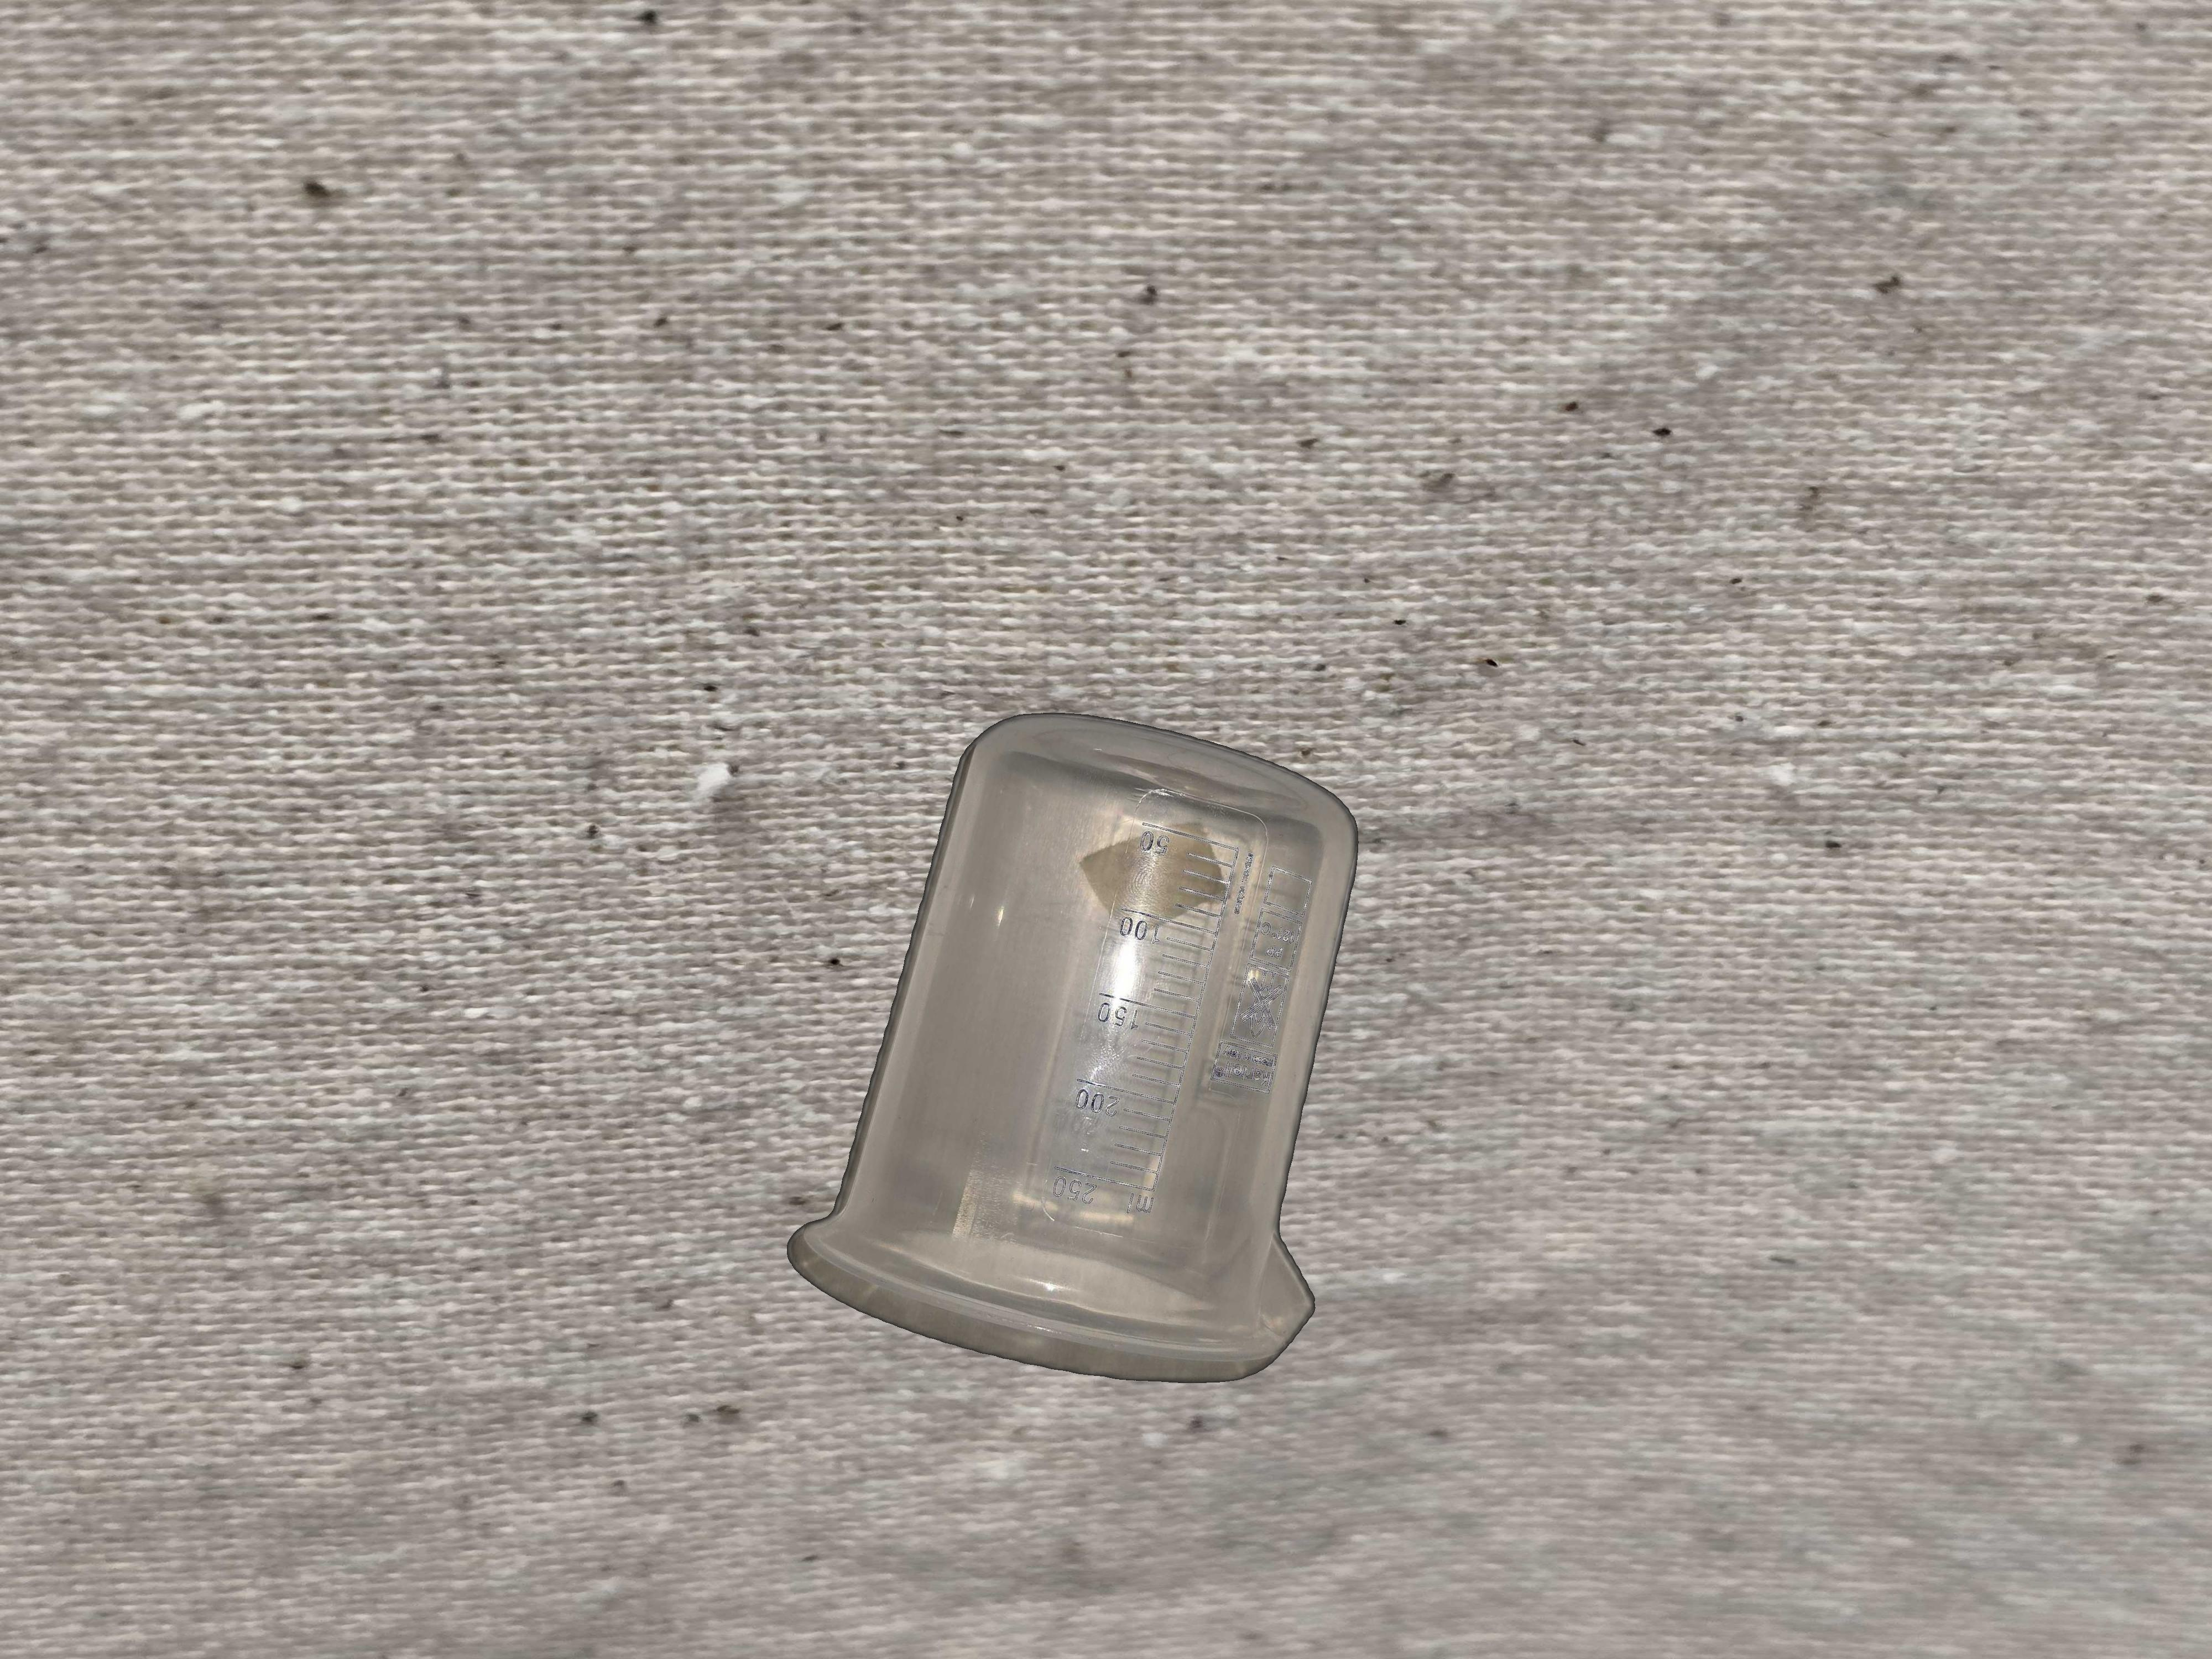becker: (786, 713, 1357, 1385)
